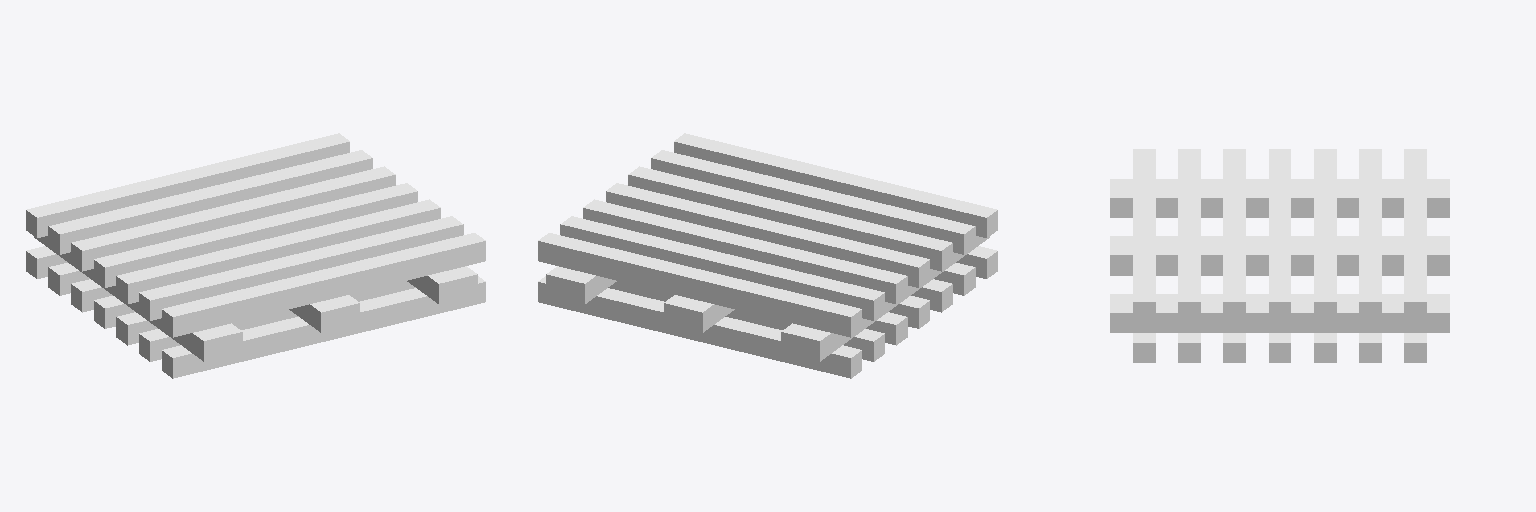
File: PalletV1.obj
3 renders of one model, left to right at view 1: azimuth 30°, elevation 25°; view 2: azimuth 150°, elevation 25°; view 3: azimuth 270°, elevation 25°, orthographic.
Visible parts, largest first — view 1: object 1; view 2: object 1; view 3: object 1.
Part boxes in pixels (left/top/right/bottom): object 1: left=26, top=133, right=485, bottom=378; object 1: left=538, top=133, right=997, bottom=378; object 1: left=1110, top=149, right=1449, bottom=362.
Bounding box in the file's own units: 1.6 × 0.3 × 1.5.